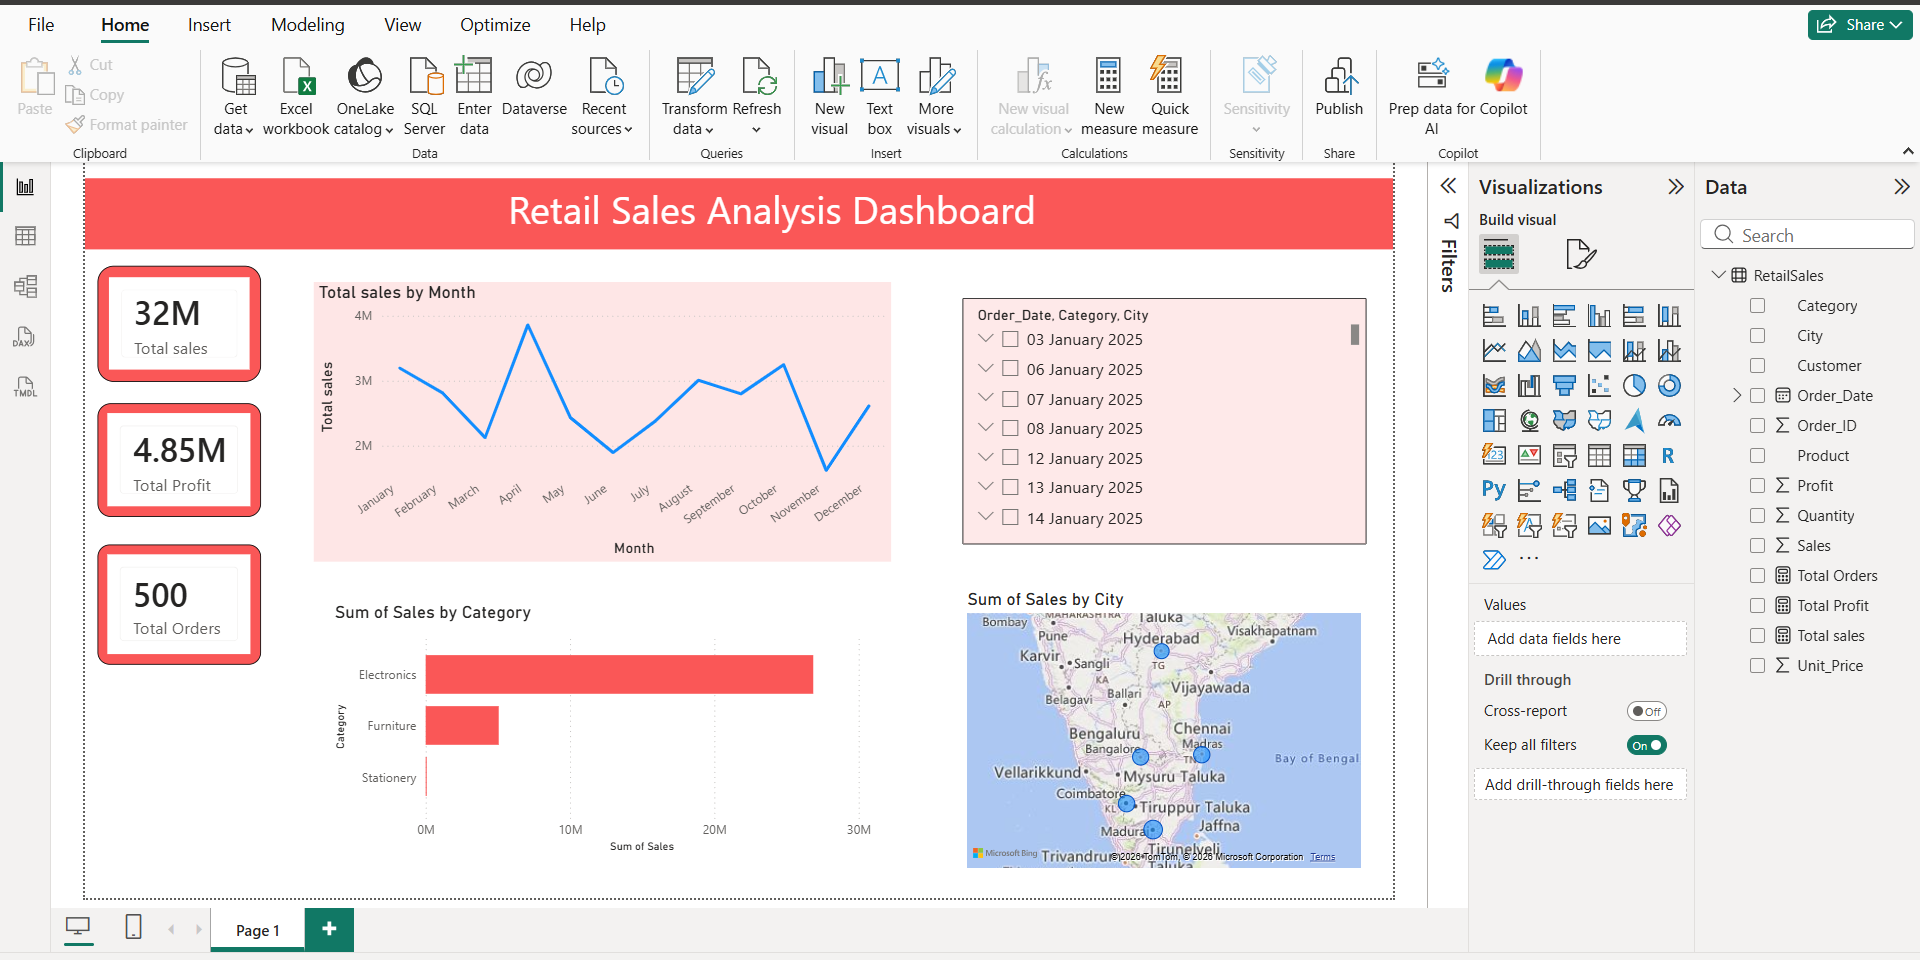

What the dashboard file says about the page in this screenshot:
{"tool":"powerbi","page":{"name":"Page 1","canvas":[1280,720],"ordinal":0},"visuals":[{"type":"cardVisual","fields":{"Data":["RetailSales.Total sales"]},"box":[12.2,101.5,160.2,113.7],"z":0},{"type":"cardVisual","fields":{"Data":["RetailSales.Total Orders"]},"box":[12.2,374.2,160.2,117.4],"z":1000},{"type":"cardVisual","fields":{"Data":["RetailSales.Total Profit"]},"box":[12.2,236,160.2,111.3],"z":2000},{"type":"lineChart","fields":{"Category":["RetailSales.Order_Date.Variation.Date Hierarchy.Month"],"Y":["RetailSales.Total sales"]},"box":[223.8,117.4,564.9,273.9],"z":3000},{"type":"clusteredBarChart","fields":{"Category":["RetailSales.Category"],"Y":["Sum(RetailSales.Sales)"]},"box":[239.7,430.4,534.4,250.7],"z":4000},{"type":"map","fields":{"Size":["Sum(RetailSales.Sales)"],"Category":["RetailSales.City"]},"box":[858.4,417,395,278.8],"z":5000},{"type":"slicer","fields":{"Values":["RetailSales.Order_Date","RetailSales.Category","RetailSales.City"]},"box":[858.4,133.3,395,240.9],"z":6000},{"type":"textbox","box":[0,15.9,1280.3,69.7],"z":7000}]}

Visuals, with their boxes on the page's 1280x720 design canvas (x1, y1, x2, y2). These are canvas units, not pixel positions in the 1920x960 screenshot, which may show the page scaled, cropped or inside an application window:
cardVisual - RetailSales.Total sales: 12/102/172/215
cardVisual - RetailSales.Total Orders: 12/374/172/492
cardVisual - RetailSales.Total Profit: 12/236/172/347
lineChart - RetailSales.Order_Date.Variation.Date Hierarchy.Month x RetailSales.Total sales: 224/117/789/391
clusteredBarChart - RetailSales.Category x Sum(RetailSales.Sales): 240/430/774/681
map - Sum(RetailSales.Sales) x RetailSales.City: 858/417/1253/696
slicer - RetailSales.Order_Date x RetailSales.Category: 858/133/1253/374
textbox: 0/16/1280/86
